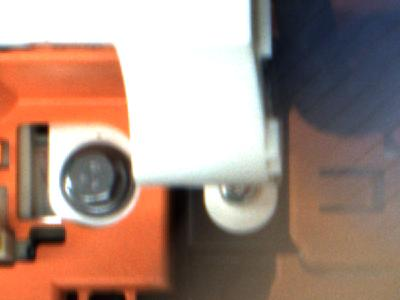nut_b: (59, 143, 129, 215)
